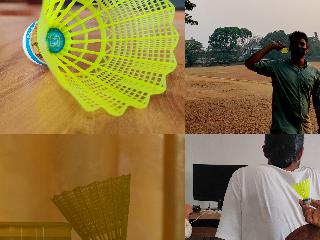shuttlecock: (21, 0, 179, 117), (51, 174, 134, 239), (288, 178, 312, 204), (280, 44, 288, 54)
